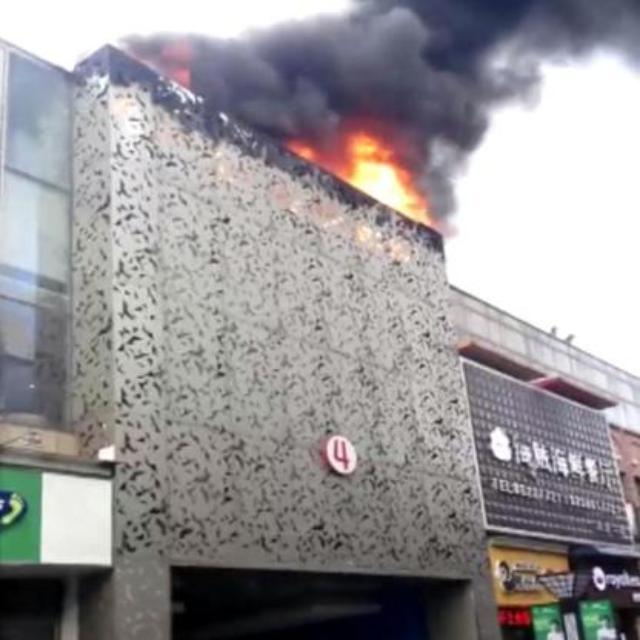Fire: (341, 124, 429, 232), (154, 40, 198, 90), (286, 136, 340, 176)
Smoke: (210, 0, 640, 111)
